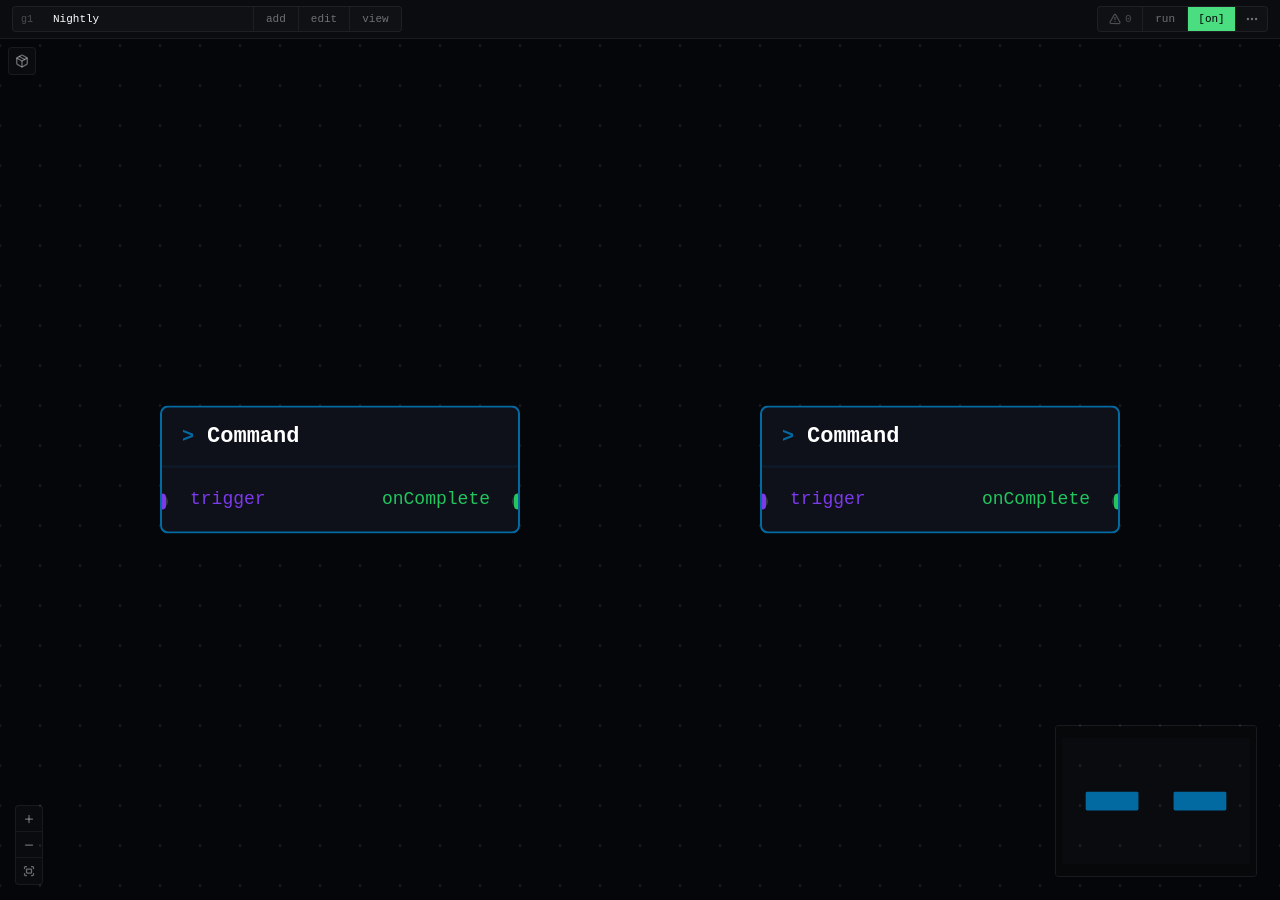
Scenario: right-clicking a block opens the edit menu › opens the edit menu, not quick-add, on a block
The image size is (1280, 900).
Right-click the element with class "react-flow__node" showing "> Command trigger onComplete" at point(340, 470), box [160,406,520,534]
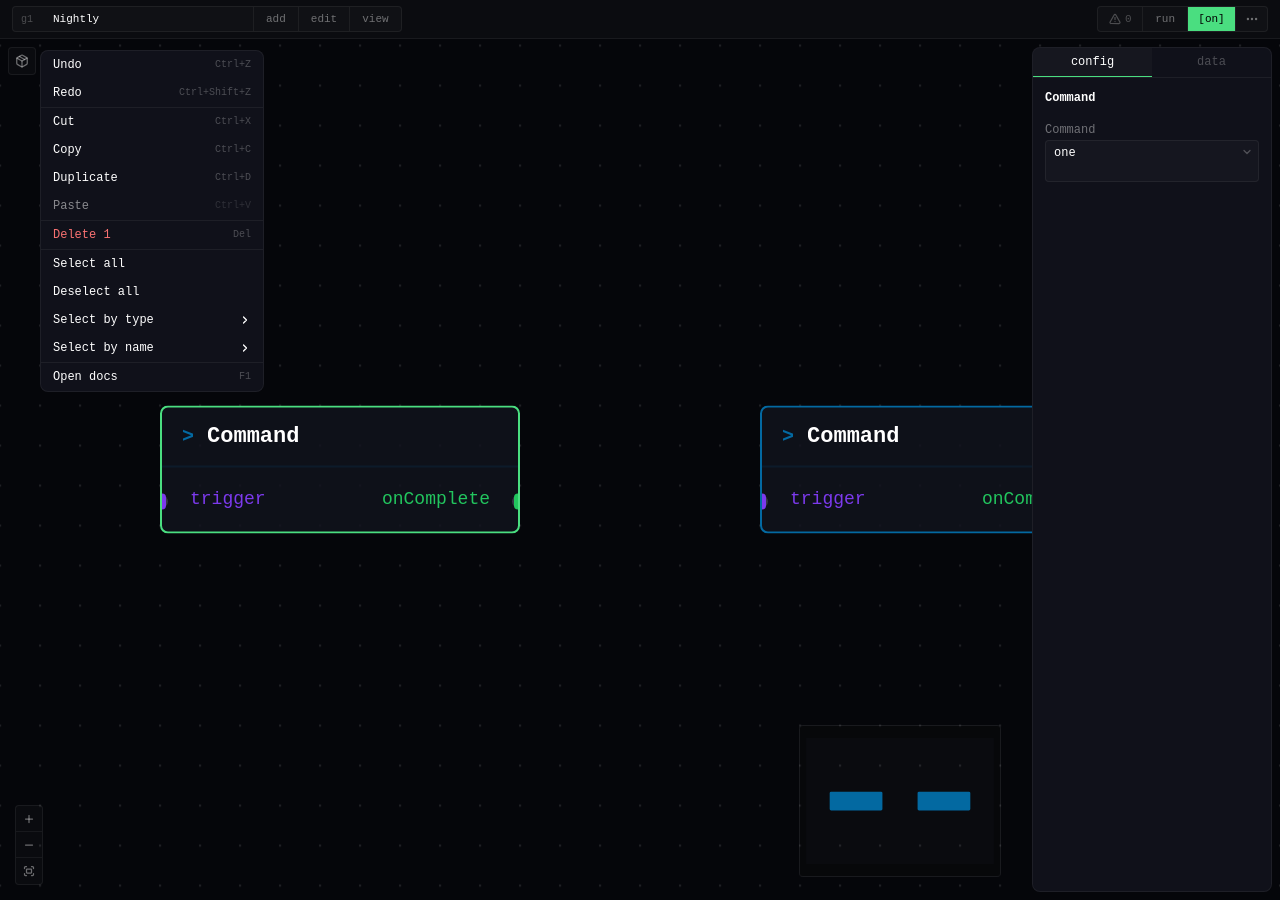
Now the menu named "Edit" is shown, box [40,50,264,392]
Now the button "Undo Ctrl+Z" is shown, box [41,51,263,79]
Now the button "Select all" is shown, box [41,250,263,278]
